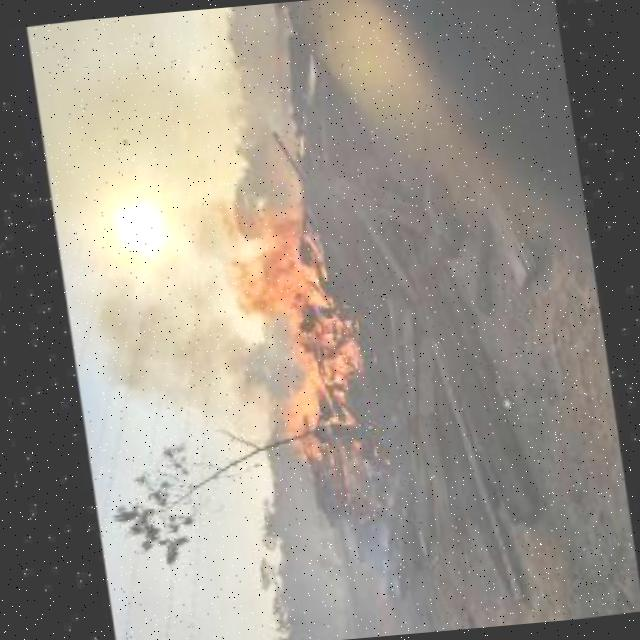fire: (218, 196, 372, 508), (84, 273, 280, 429)
